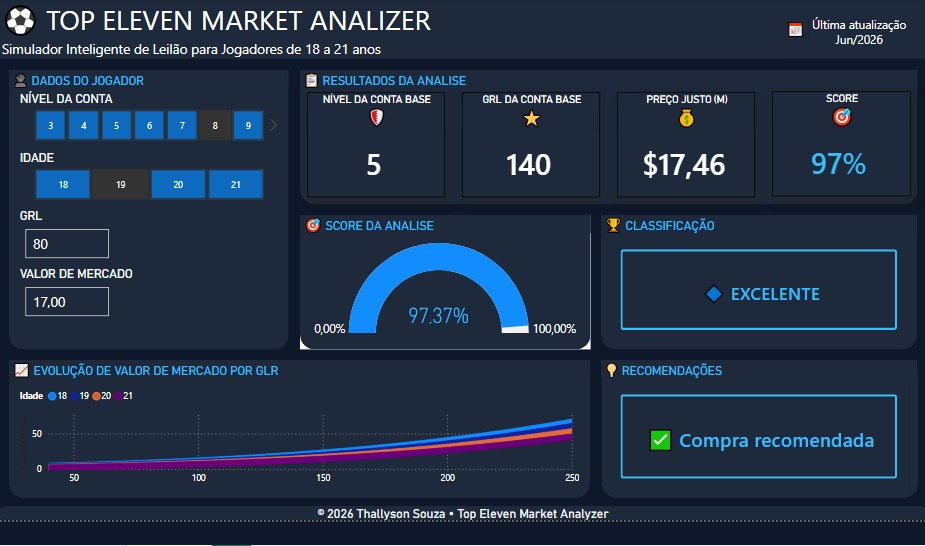

The page's visual inventory and layout, read from the dashboard file:
{"tool":"powerbi","page":{"name":"Página 1","canvas":[1280,720],"ordinal":0},"visuals":[{"type":"textbox","title":"⚽ TOP ELEVEN MARKET ANALIZER","box":[0,0,1280,85.3],"z":0},{"type":"shape","box":[0,700,1280,20],"z":1000},{"type":"shape","box":[15,100,385,385],"z":2000},{"type":"shape","box":[830.7,500,435,190],"z":3000},{"type":"shape","box":[15,500,800,190],"z":4000},{"type":"shape","box":[830,300,435,185],"z":5000},{"type":"shape","box":[415,300,400,185],"z":6000},{"type":"shape","box":[415,100,850,185],"z":7000},{"type":"slicer","title":"NÍVEL DA CONTA","fields":{"Values":["NÍVEL DA CONTA.NÍVEL DA CONTA"]},"box":[25,130,365,75],"z":8000},{"type":"slicer","title":"IDADE","fields":{"Values":["IDADE.IDADE"]},"box":[25,210,365,75],"z":9000},{"type":"slicer","title":"GRL","fields":{"Values":["GRL.GRL"]},"box":[25,290,365,75],"z":10000},{"type":"slicer","title":"VALOR DE MERCADO","fields":{"Values":["VALOR DE MERCADO.VALOR DE MERCADO"]},"box":[25,370,365,75],"z":11000},{"type":"gauge","fields":{"Y":["DADOS BRUTOS.Score"]},"box":[425,330,380,145.3],"z":12000},{"type":"cardVisual","title":"SCORE","fields":{"Data":["DADOS BRUTOS.Score"]},"box":[1065,129.3,190.7,145.3],"z":13000},{"type":"cardVisual","title":"PREÇO JUSTO (M)","fields":{"Data":["DADOS BRUTOS.PrecoJusto"]},"box":[851.7,130.8,190,145],"z":14000},{"type":"cardVisual","title":"GRL DA CONTA BASE","fields":{"Data":["DADOS BRUTOS.GRLContaBase"]},"box":[638.3,130.8,190,145.5],"z":15000},{"type":"cardVisual","title":"NÍVEL DA CONTA BASE","fields":{"Data":["DADOS BRUTOS.NivelContaBase"]},"box":[425,130.8,190,145],"z":16000},{"type":"textbox","title":"👤 DADOS DO JOGADOR","box":[15,100,385,25],"z":17000},{"type":"textbox","title":"📋 RESULTADOS DA ANALISE","box":[415,100,850,25],"z":18000},{"type":"textbox","title":"🎯 SCORE DA ANALISE","box":[415,300,400,25],"z":19000},{"type":"textbox","title":"🏆 CLASSIFICAÇÃO","box":[830,300,435,25],"z":20000},{"type":"textbox","title":"💡 RECOMENDAÇÕES","box":[830,500,435,25],"z":21000},{"type":"textbox","title":"📈 EVOLUÇÃO DE VALOR DE MERCADO POR GLR","box":[15,500,800,25],"z":22000},{"type":"cardVisual","fields":{"Data":["DADOS BRUTOS.Classificacao"]},"box":[840,330,415,145],"z":23000},{"type":"cardVisual","fields":{"Data":["DADOS BRUTOS.Recomendacao"]},"box":[840,530,415,150],"z":24000},{"type":"textbox","title":"© 2026 Thallyson Souza • Top Eleven Market Analyzer","box":[0,700,1280,20.6],"z":25000},{"type":"scatterChart","fields":{"X":["DADOS BRUTOS.GRL"],"Series":["DADOS BRUTOS.Idade"],"Y":["DADOS BRUTOS.Valor de Mercado 2"]},"box":[25,530,780,150],"z":26000},{"type":"textbox","box":[1090.1,22,189.9,63.3],"z":28000},{"type":"textbox","title":"📅","box":[1080,30,35,25],"z":29000}]}

Visuals, with their boxes on the page's 1280x720 design canvas (x1, y1, x2, y2). These are canvas units, not pixel positions in the 925x546 screenshot, which may show the page scaled, cropped or inside an application window:
"⚽ TOP ELEVEN MARKET ANALIZER" textbox: pyautogui.locateOnScreen(0, 0, 1280, 85)
shape: pyautogui.locateOnScreen(0, 700, 1280, 720)
shape: pyautogui.locateOnScreen(15, 100, 400, 485)
shape: pyautogui.locateOnScreen(831, 500, 1266, 690)
shape: pyautogui.locateOnScreen(15, 500, 815, 690)
shape: pyautogui.locateOnScreen(830, 300, 1265, 485)
shape: pyautogui.locateOnScreen(415, 300, 815, 485)
shape: pyautogui.locateOnScreen(415, 100, 1265, 285)
"NÍVEL DA CONTA" slicer: pyautogui.locateOnScreen(25, 130, 390, 205)
"IDADE" slicer: pyautogui.locateOnScreen(25, 210, 390, 285)
"GRL" slicer: pyautogui.locateOnScreen(25, 290, 390, 365)
"VALOR DE MERCADO" slicer: pyautogui.locateOnScreen(25, 370, 390, 445)
gauge - DADOS BRUTOS.Score: pyautogui.locateOnScreen(425, 330, 805, 475)
"SCORE" cardVisual: pyautogui.locateOnScreen(1065, 129, 1256, 275)
"PREÇO JUSTO (M)" cardVisual: pyautogui.locateOnScreen(852, 131, 1042, 276)
"GRL DA CONTA BASE" cardVisual: pyautogui.locateOnScreen(638, 131, 828, 276)
"NÍVEL DA CONTA BASE" cardVisual: pyautogui.locateOnScreen(425, 131, 615, 276)
"👤 DADOS DO JOGADOR" textbox: pyautogui.locateOnScreen(15, 100, 400, 125)
"📋 RESULTADOS DA ANALISE" textbox: pyautogui.locateOnScreen(415, 100, 1265, 125)
"🎯 SCORE DA ANALISE" textbox: pyautogui.locateOnScreen(415, 300, 815, 325)
"🏆 CLASSIFICAÇÃO" textbox: pyautogui.locateOnScreen(830, 300, 1265, 325)
"💡 RECOMENDAÇÕES" textbox: pyautogui.locateOnScreen(830, 500, 1265, 525)
"📈 EVOLUÇÃO DE VALOR DE MERCADO POR GLR" textbox: pyautogui.locateOnScreen(15, 500, 815, 525)
cardVisual - DADOS BRUTOS.Classificacao: pyautogui.locateOnScreen(840, 330, 1255, 475)
cardVisual - DADOS BRUTOS.Recomendacao: pyautogui.locateOnScreen(840, 530, 1255, 680)
"© 2026 Thallyson Souza • Top Eleven Market Analyzer" textbox: pyautogui.locateOnScreen(0, 700, 1280, 721)
scatterChart - DADOS BRUTOS.GRL x DADOS BRUTOS.Idade: pyautogui.locateOnScreen(25, 530, 805, 680)
textbox: pyautogui.locateOnScreen(1090, 22, 1280, 85)
"📅" textbox: pyautogui.locateOnScreen(1080, 30, 1115, 55)
